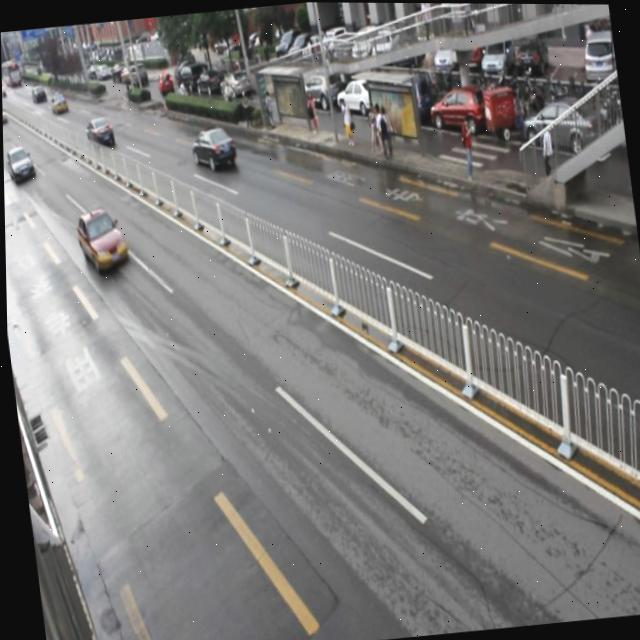car: (73, 203, 129, 275), (189, 122, 236, 171), (84, 115, 114, 150)
